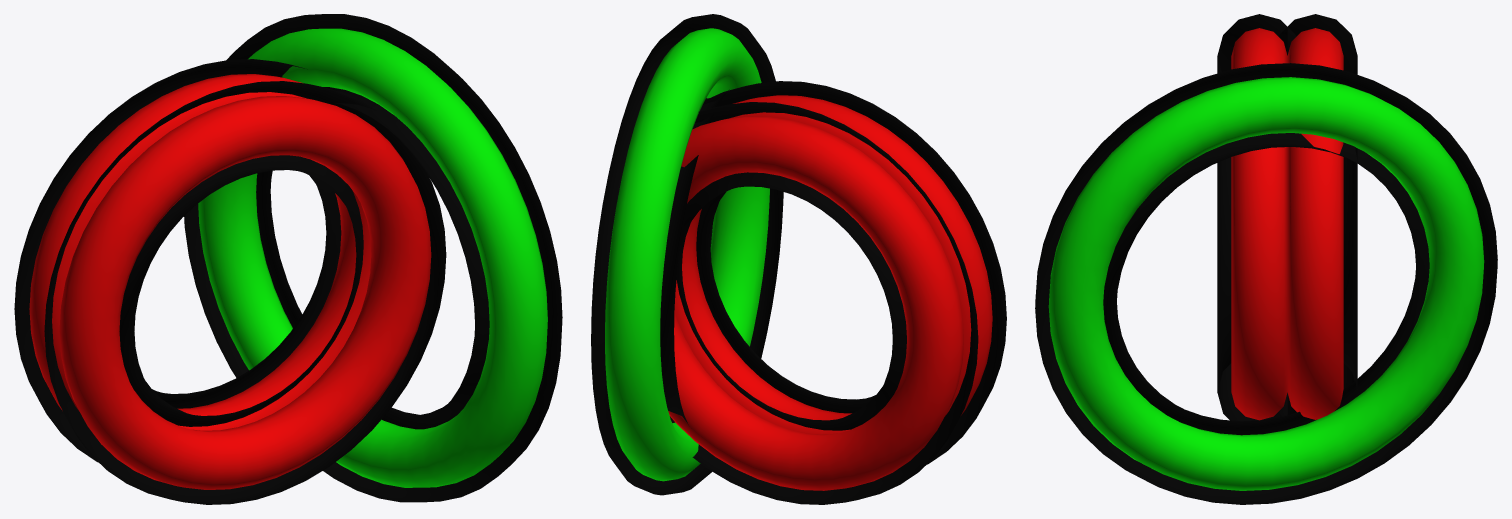
File: bweg_step_02.glb
3 renders of one model, left to right at view 1: azimuth 30°, elevation 25°; view 2: azimuth 150°, elevation 25°; view 3: azimuth 270°, elevation 25°, orthographic. The views are drawn at different scales.
Visible parts, largest first — view 1: Torus.001, Torus.011, Torus; view 2: Torus, Torus.011, Torus.001; view 3: Torus.011, Torus.001, Torus.
Boxes of the visible parts, left/top/right/bottom form: Torus.001: left=44, top=81, right=446, bottom=504; Torus.011: left=184, top=14, right=562, bottom=502; Torus: left=14, top=59, right=371, bottom=462; Torus: left=668, top=102, right=978, bottom=504; Torus.011: left=591, top=14, right=783, bottom=495; Torus.001: left=674, top=81, right=1006, bottom=464; Torus.011: left=1035, top=63, right=1497, bottom=504; Torus.001: left=1217, top=14, right=1296, bottom=421; Torus: left=1278, top=14, right=1357, bottom=419.
Bounding box in the file's own units: 3.14 × 3.4 × 3.3.
